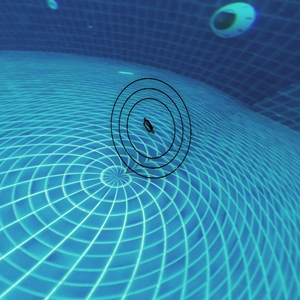circle: (104, 73, 201, 192)
